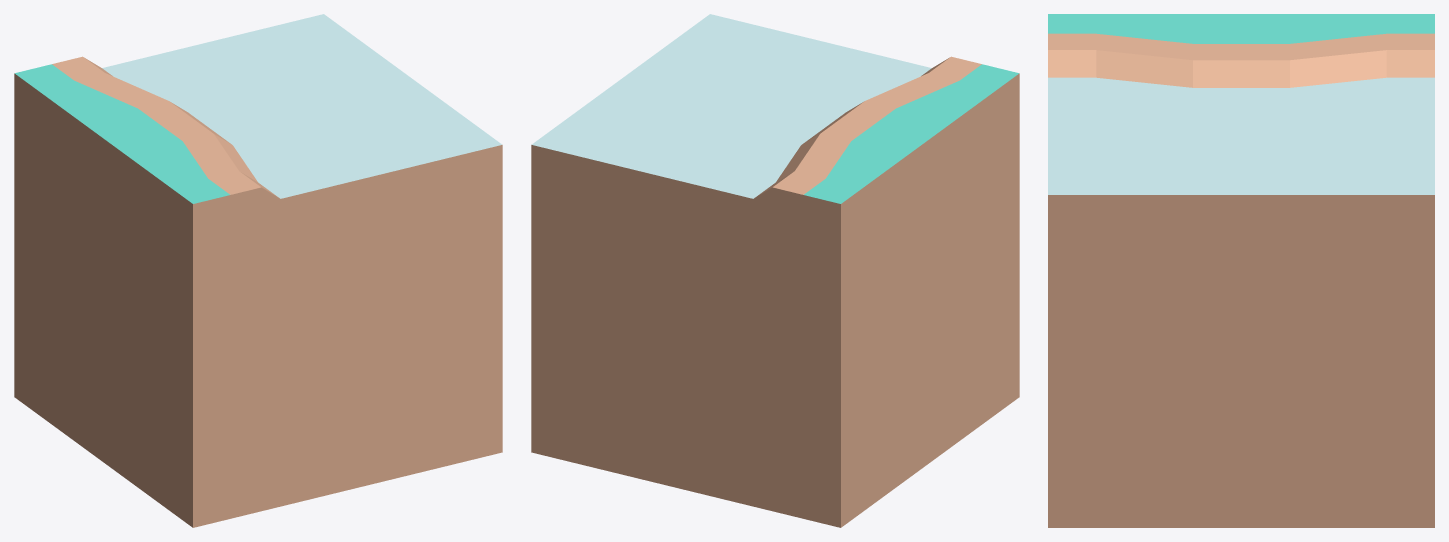
The model's file is blockRiverSide.fbx.
3 renders of one model, left to right at view 1: azimuth 30°, elevation 25°; view 2: azimuth 150°, elevation 25°; view 3: azimuth 270°, elevation 25°, orthographic. The views are drawn at different scales.
Parts seen in each view (by area): view 1: blockLakeSide; view 2: blockLakeSide; view 3: blockLakeSide.
Boxes of the visible parts, x1,y1,x2,y2 form: blockLakeSide: (14, 14, 502, 527); blockLakeSide: (531, 14, 1019, 527); blockLakeSide: (1048, 14, 1434, 527).
Bounding box in the file's own units: 100 × 100 × 100.
